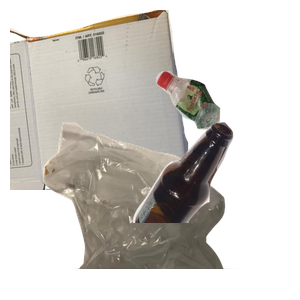cardboard: (10, 10, 191, 190)
glass: (130, 120, 300, 300)
plastic: (153, 68, 300, 190)
trash: (41, 120, 276, 300)
